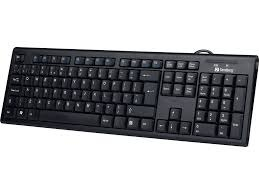keyboard: (0, 37, 259, 149)
